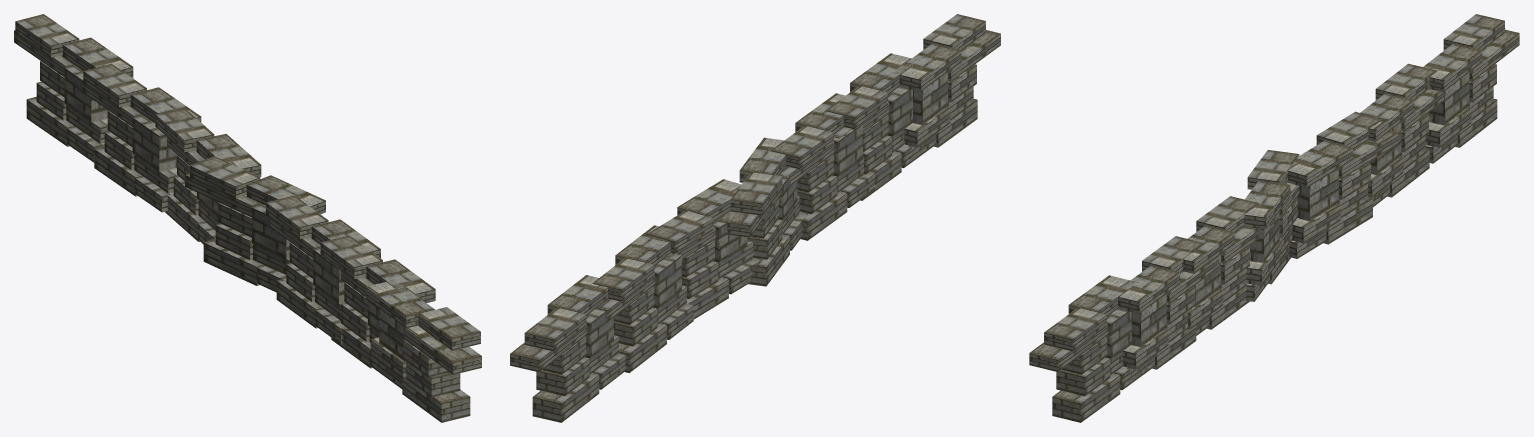
File: ForestBrickWalls.fbx
3 views of the same model, side by side, from view 1: azimuth 30°, elevation 25°; view 2: azimuth 150°, elevation 25°; view 3: azimuth 330°, elevation 25° (orthographic).
Parts seen in each view (by area): view 1: Plane.105, Plane.108, Plane.111, Plane.112, Plane.107, Plane.106, Plane.110; view 2: Plane.112, Plane.105, Plane.111, Plane.107, Plane.110, Plane.108, Plane.106; view 3: Plane.105, Plane.110, Plane.112, Plane.106, Plane.111, Plane.107, Plane.108.
Boxes of the visible parts, x1,y1,x2,y2 form: Plane.105: (366,280,481,422); Plane.108: (185,156,325,292); Plane.111: (82,64,201,212); Plane.112: (14,14,133,162); Plane.107: (265,195,380,344); Plane.106: (319,235,435,382); Plane.110: (155,108,261,244); Plane.112: (510,275,625,422); Plane.105: (893,14,1000,159); Plane.111: (592,225,693,373); Plane.107: (771,93,874,240); Plane.110: (647,179,759,319); Plane.108: (718,137,806,286); Plane.106: (825,53,925,200); Plane.105: (1029,275,1147,422); Plane.110: (1287,111,1398,258); Plane.112: (1423,14,1519,163); Plane.106: (1118,236,1219,384); Plane.111: (1360,63,1443,207); Plane.107: (1183,196,1273,335); Plane.108: (1243,150,1299,301).
Size of the model in its own units: 112 by 145 by 1308.
